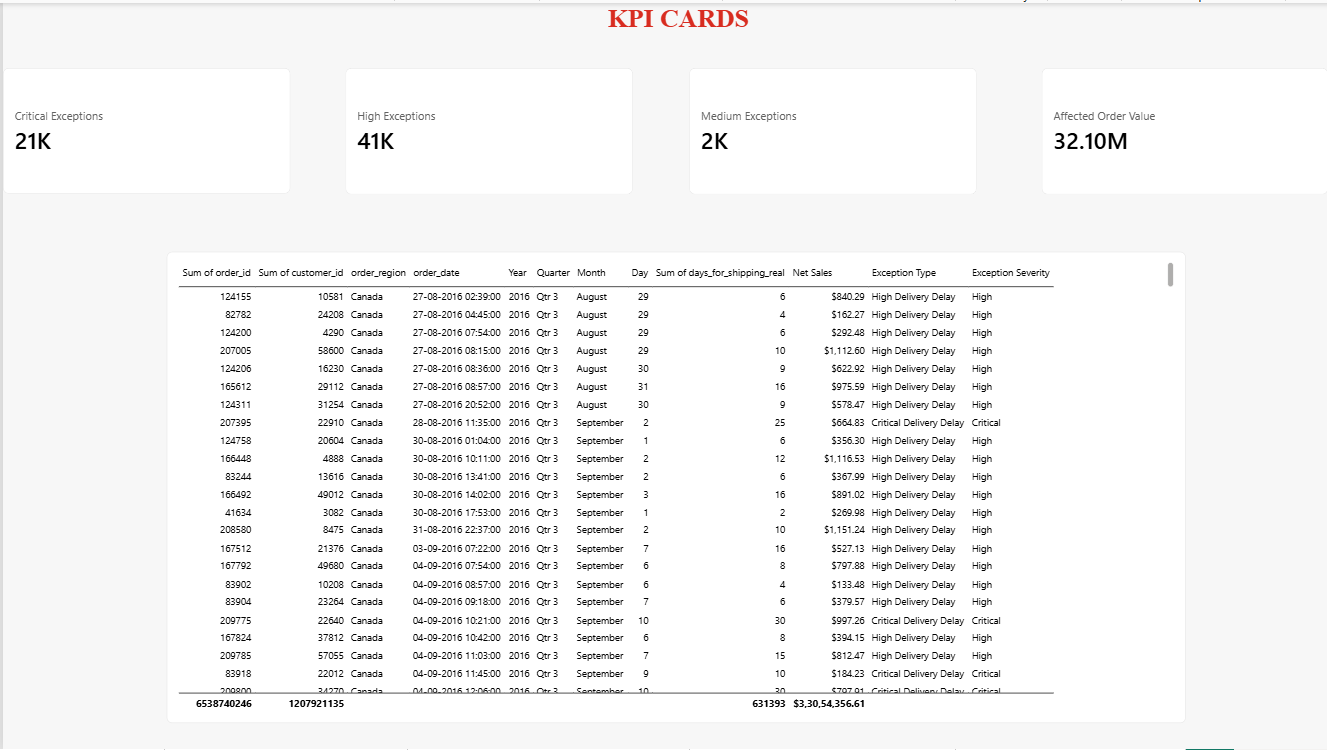

The page's visual inventory and layout, read from the dashboard file:
{"tool":"powerbi","page":{"name":"Exception & Action Center","canvas":[1920,1080],"ordinal":4},"visuals":[{"type":"textbox","box":[0,0,1920.1,45.2],"z":0},{"type":"cardVisual","fields":{"Data":["DateTable.Critical Exceptions"]},"box":[0,94.1,416.2,182.8],"z":1},{"type":"cardVisual","fields":{"Data":["DateTable.High Exceptions"]},"box":[495.8,94.1,416,183],"z":2},{"type":"cardVisual","fields":{"Data":["DateTable.Medium Exceptions"]},"box":[993.5,94.1,416,183],"z":3},{"type":"cardVisual","fields":{"Data":["DateTable.Affected Order Value"]},"box":[1503.8,94.1,416,183],"z":4},{"type":"tableEx","fields":{"Values":["Sum(dataco_supply_chain_clean.order_id)","Sum(dataco_supply_chain_clean.customer_id)","dataco_supply_chain_clean.order_region","dataco_supply_chain_clean.order_date","dataco_supply_chain_clean.shipping_date.Variation.Date Hierarchy.Year","dataco_supply_chain_clean.shipping_date.Variation.Date Hierarchy.Quarter","dataco_supply_chain_clean.shipping_date.Variation.Date Hierarchy.Month","dataco_supply_chain_clean.shipping_date.Variation.Date Hierarchy.Day","Sum(dataco_supply_chain_clean.days_for_shipping_real)","Measure Table.Net Sales","dataco_supply_chain_clean.Exception Type","dataco_supply_chain_clean.Exception Severity"]},"box":[237.1,360.1,1474.9,682.2],"z":5}]}

Visuals, with their boxes in screenshot pixels (x1, y1, x2, y2), scaled from the page's 1920x1080 canvas onto the 1327x750 screenshot:
textbox: BBox(0, 0, 1326, 31)
cardVisual - DateTable.Critical Exceptions: BBox(0, 65, 288, 192)
cardVisual - DateTable.High Exceptions: BBox(343, 65, 630, 192)
cardVisual - DateTable.Medium Exceptions: BBox(687, 65, 974, 192)
cardVisual - DateTable.Affected Order Value: BBox(1039, 65, 1326, 192)
tableEx - Sum(dataco_supply_chain_clean.order_id) x Sum(dataco_supply_chain_clean.customer_id): BBox(164, 250, 1183, 724)
